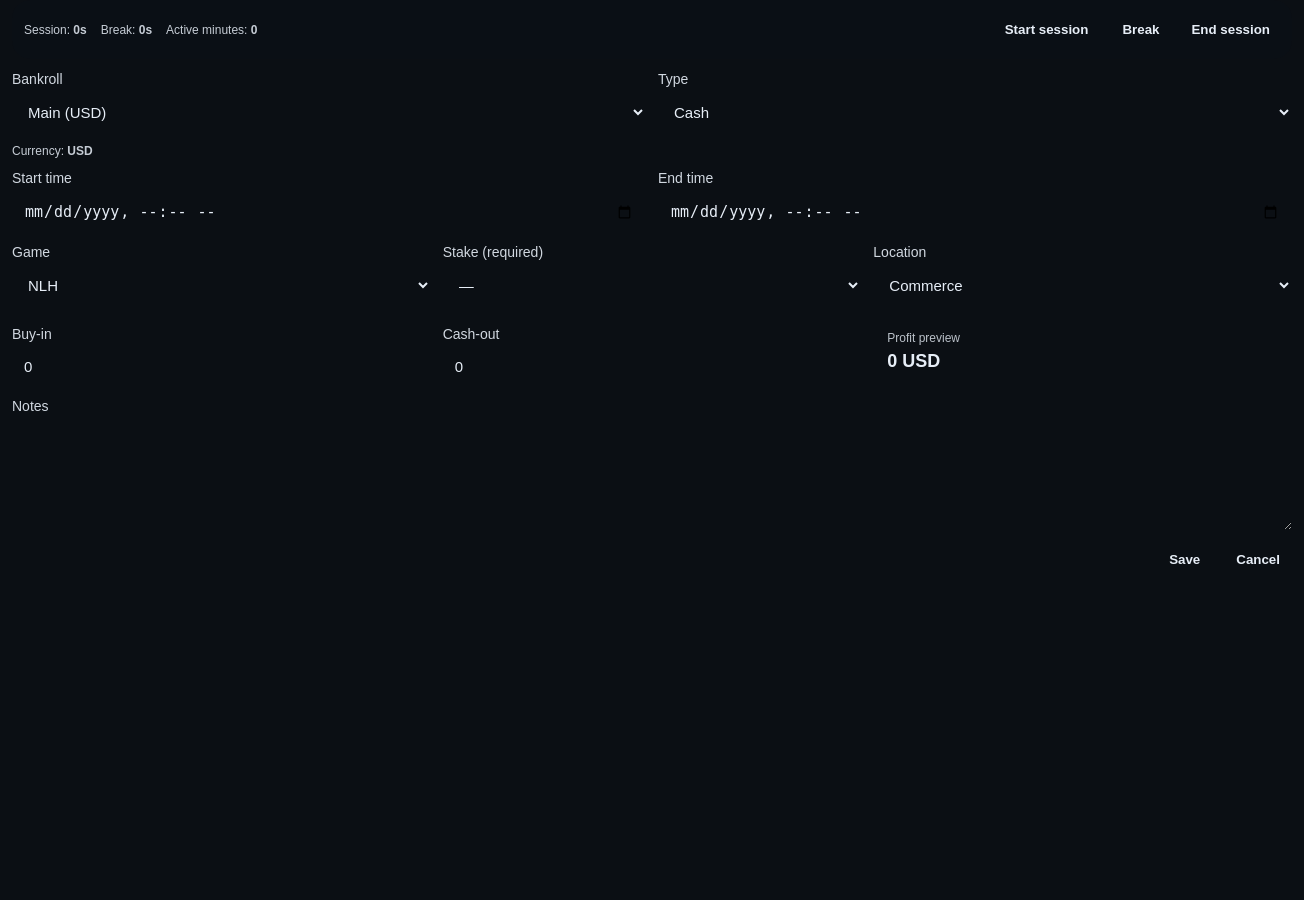
EntryForm › shows an error and does not submit when cash stake is missing
The image size is (1304, 900).
Select "—" in the dropdown labelled "Stake (required)" at (652, 286), box x1=443 y1=266 x2=861 y2=305
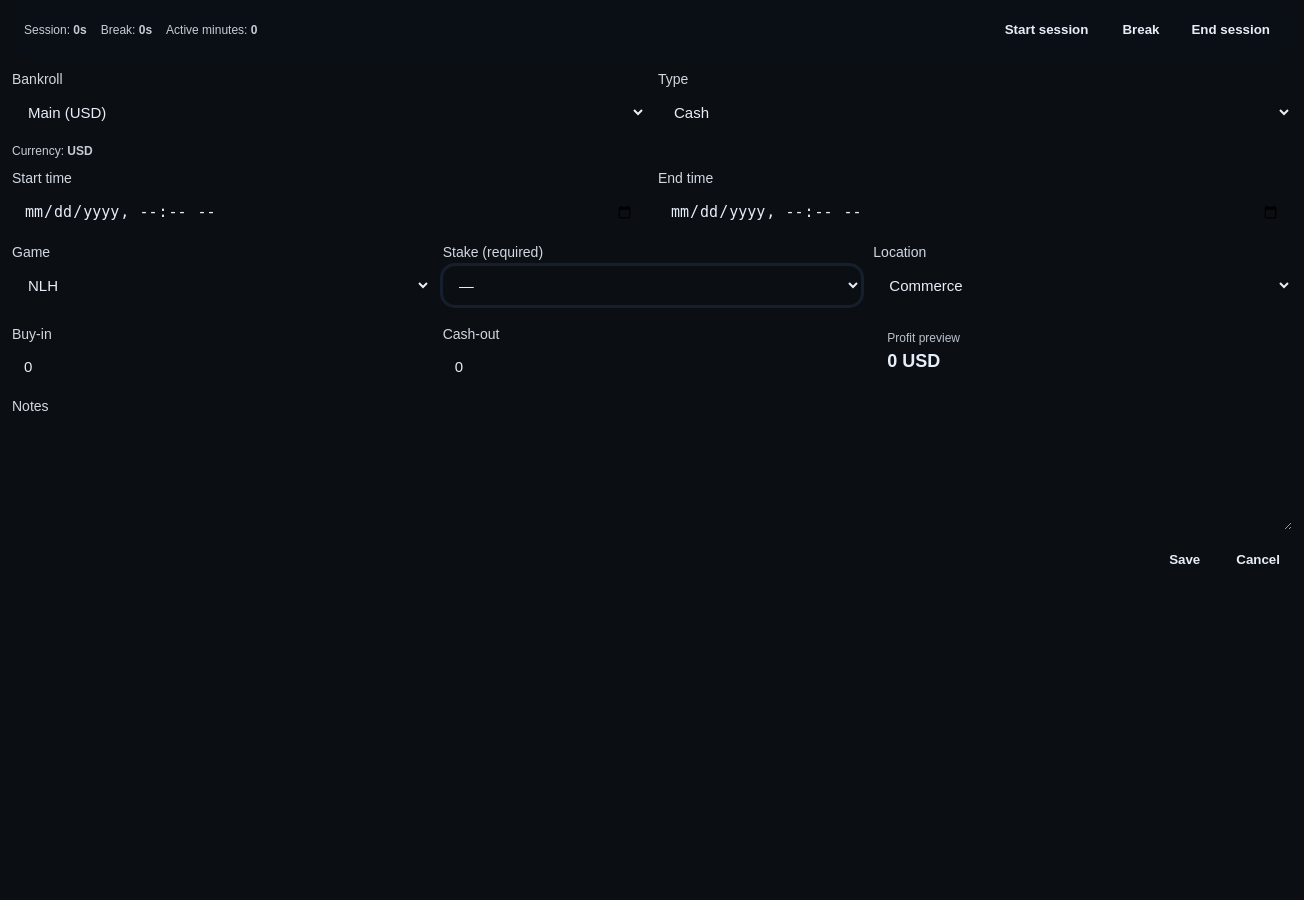
Submit the form
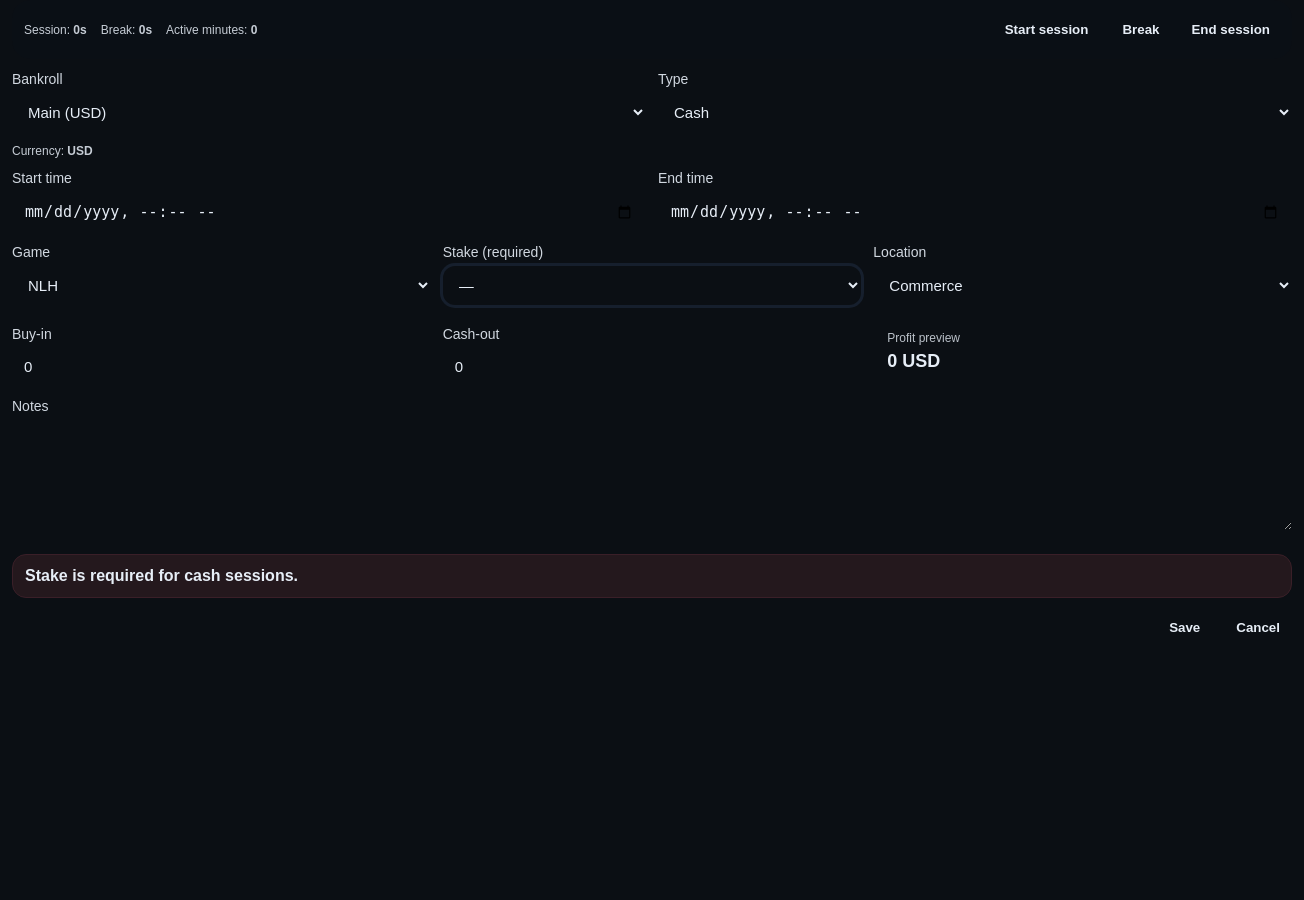
Result: the text "Stake is required for cash sessions." is shown at x1=12 y1=554 x2=1292 y2=598
